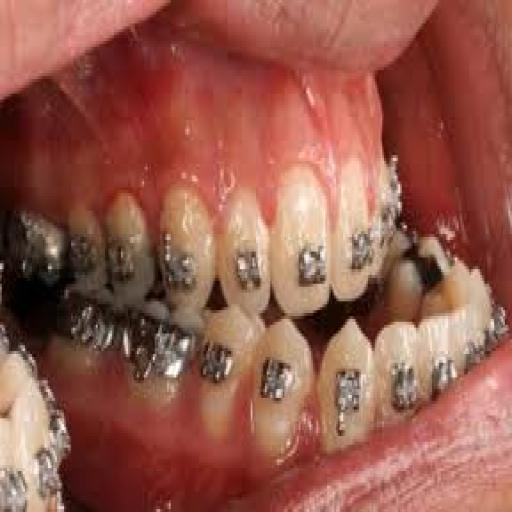correct_brace: (248, 318, 318, 463), (159, 229, 207, 298), (328, 359, 366, 437), (289, 234, 328, 297), (259, 352, 297, 412), (387, 355, 422, 417), (230, 238, 264, 296), (345, 220, 377, 280)
incorrect_brace: (218, 172, 272, 317), (374, 317, 424, 431)
